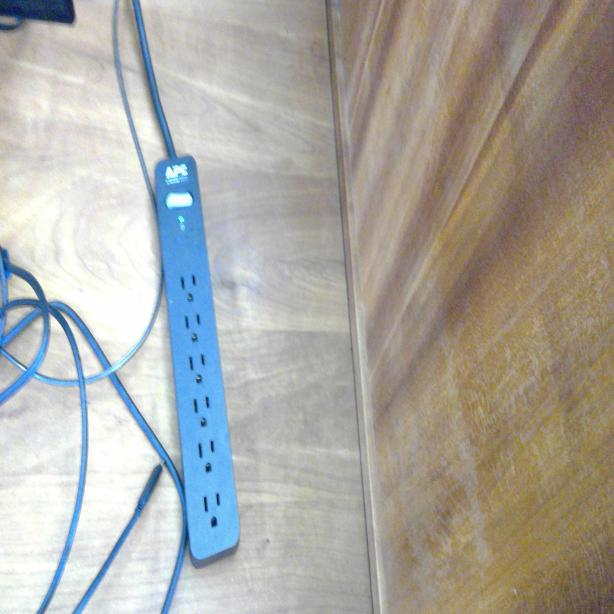typeb: (199, 488, 225, 532), (184, 348, 210, 386), (194, 436, 219, 475), (190, 392, 214, 429), (176, 265, 199, 303), (181, 309, 204, 345)
